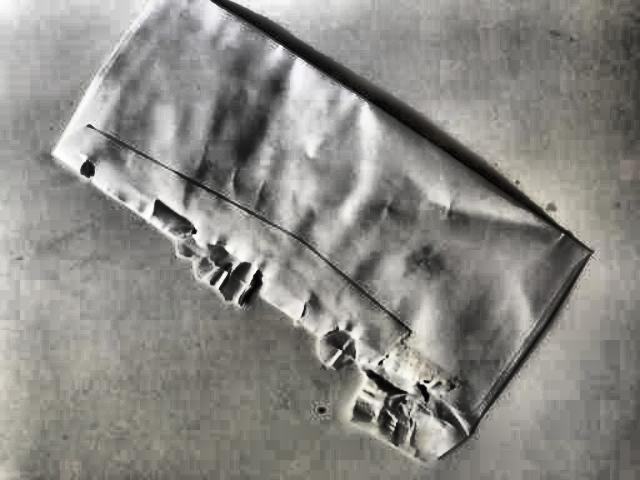Paper: (22, 0, 631, 477)
